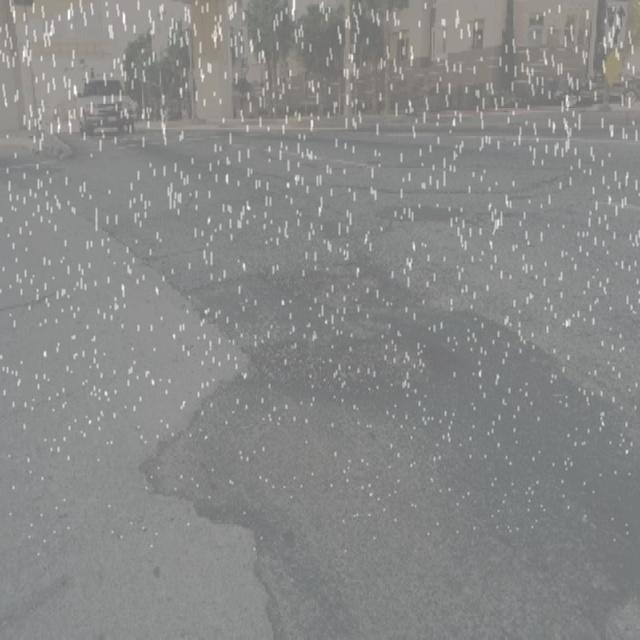Pothole: (158, 248, 639, 640)
